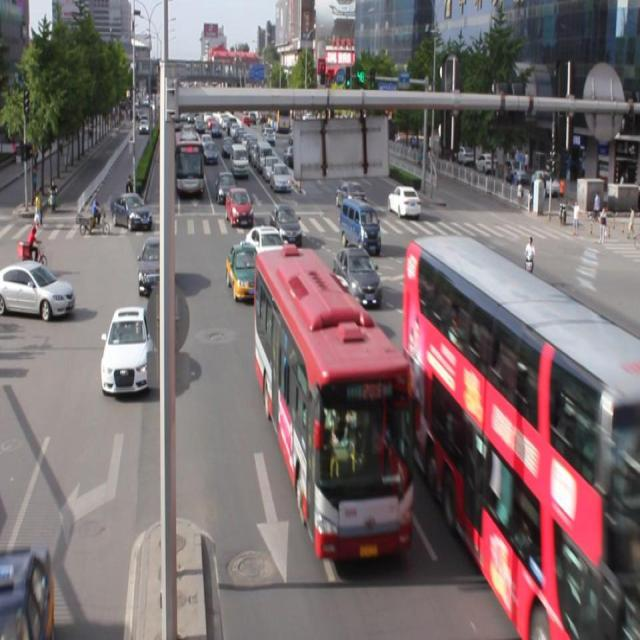car: (1, 544, 56, 640), (100, 306, 152, 394), (444, 241, 504, 311), (333, 246, 380, 307), (226, 242, 265, 302), (138, 234, 173, 298), (245, 223, 288, 270), (270, 202, 303, 248)
truck: (340, 196, 380, 252)
van: (402, 234, 640, 640), (255, 249, 410, 550)
